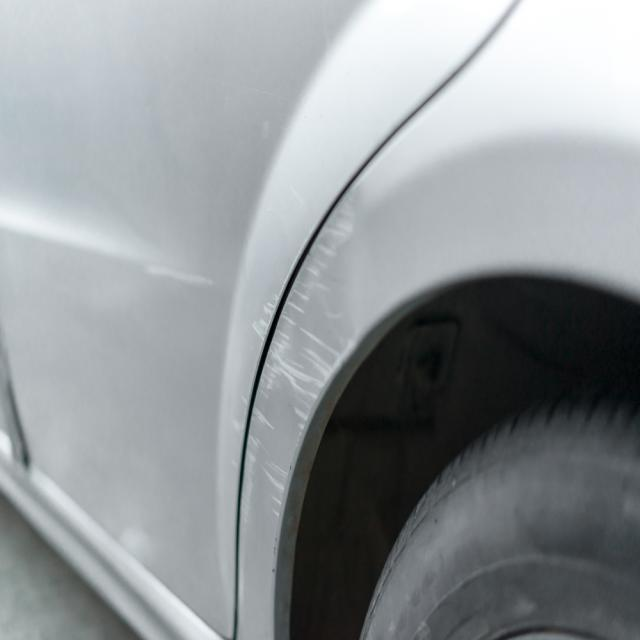scratch: (247, 199, 361, 511)
